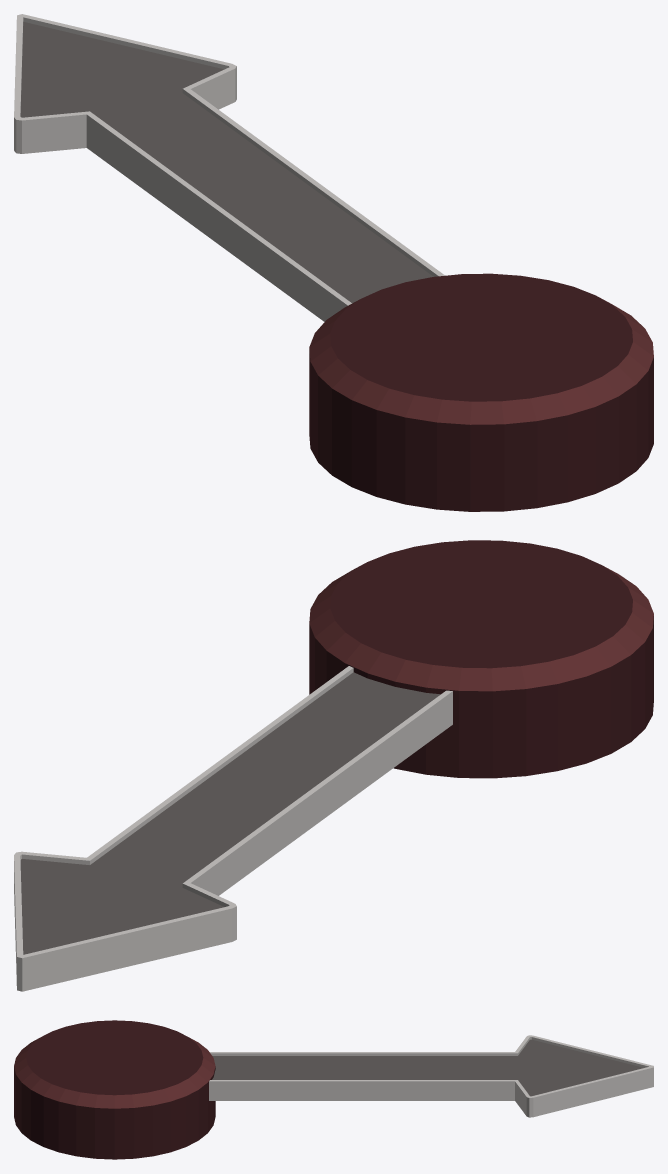
The model's file is CountdownTimerPointer.glb.
3 renders of one model, top to bottom at view 1: azimuth 30°, elevation 25°; view 2: azimuth 150°, elevation 25°; view 3: azimuth 270°, elevation 25°, orthographic. The views are drawn at different scales.
Parts seen in each view (by area): view 1: Pointer; view 2: Pointer; view 3: Pointer.
Part boxes in pixels (x1,y1,x2,y2): Pointer: (14,14,653,511); Pointer: (14,540,653,991); Pointer: (14,1020,653,1159).
Bounding box in the file's own units: 0.2909 × 0.0942 × 0.9235.
Materials: 1 (1 with a texture image).
